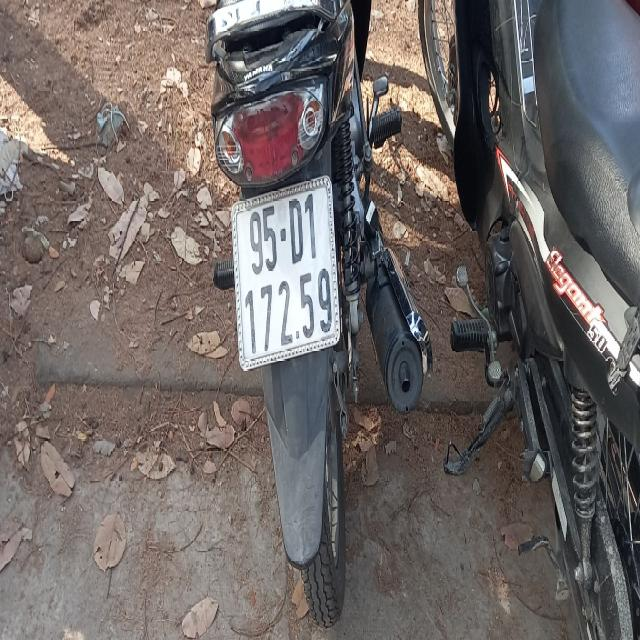1: (305, 192, 319, 260), (244, 289, 257, 355)
2: (277, 278, 293, 344)
5: (300, 273, 316, 338), (262, 206, 277, 272)
7: (260, 284, 273, 350)
9: (316, 268, 332, 336), (250, 212, 264, 274)
B: (230, 172, 340, 372)
D: (287, 197, 304, 264)
